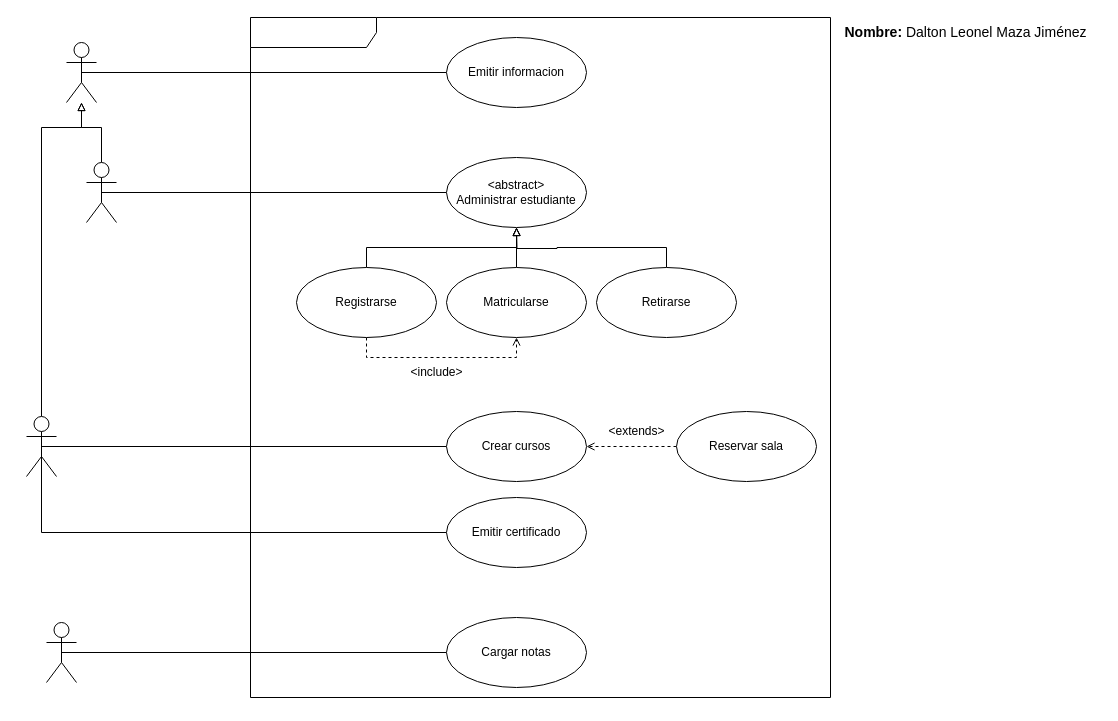
The diagram is 1118 pixels wide and 721 high, and some of its shapes have lost their labels. Each missing label, with the centre of its shape:
AdmEmp: the point at 41,446
Empleado: the point at 81,72
oficina estudiante: the point at 540,357
Profesor: the point at 61,652
ServEmp: the point at 101,192
